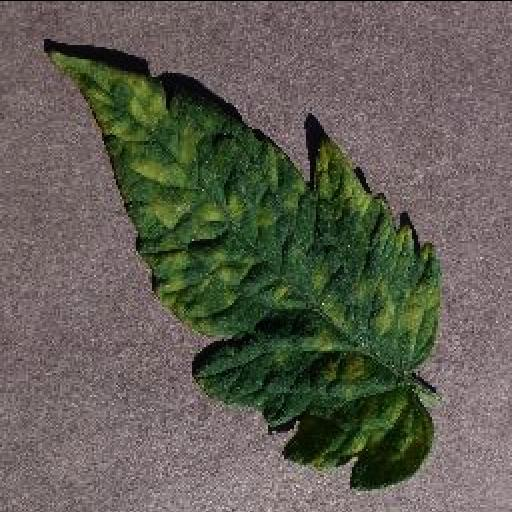disease_tomato: (46, 48, 444, 486)
